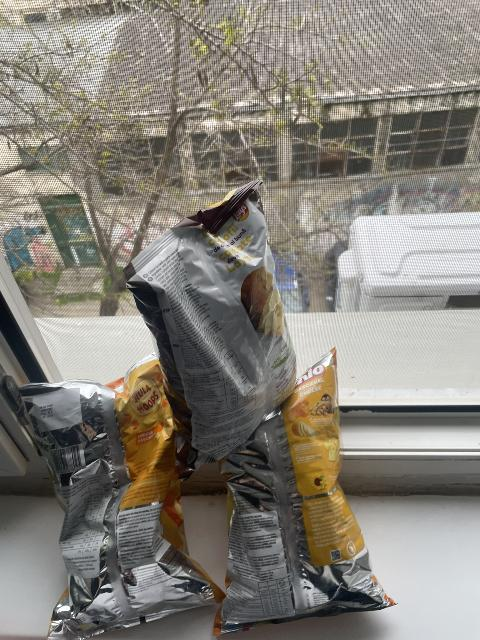Chio Cascaval 125g: (213, 348, 395, 637)
Chio Hula Hoops Cheese 70g: (13, 349, 225, 640)
Lays Beef Grilled Ribs 125g: (122, 187, 296, 480)
